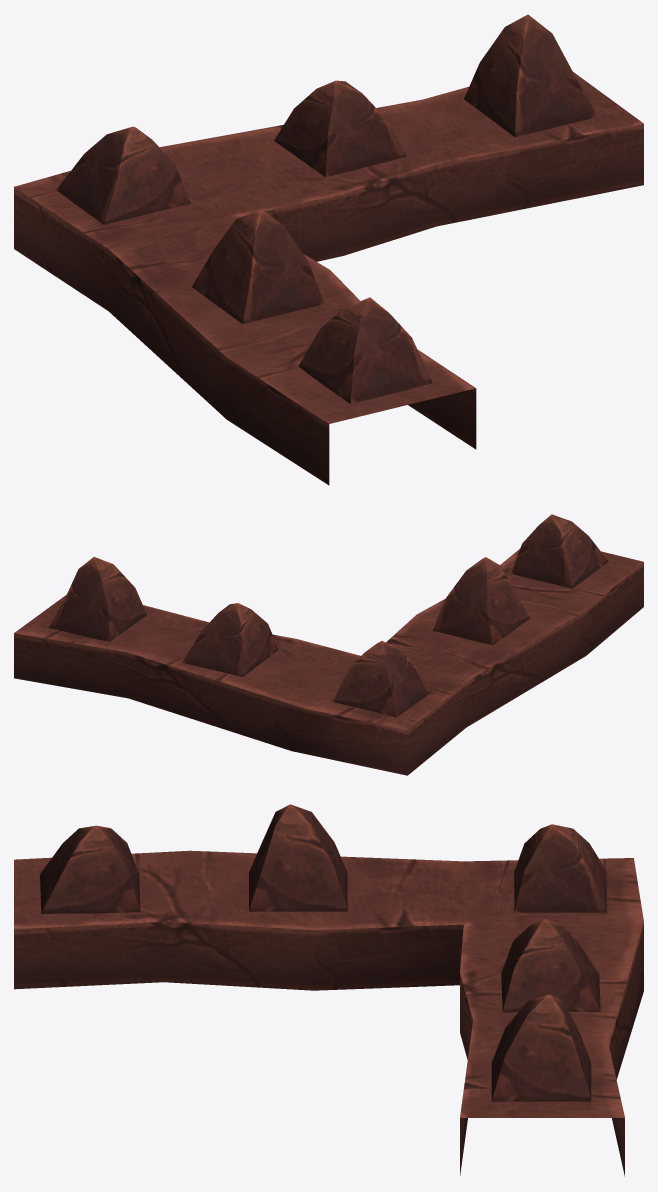
File: lava_cap_concave_01.fbx
3 renders of one model, top to bottom at view 1: azimuth 30°, elevation 25°; view 2: azimuth 150°, elevation 25°; view 3: azimuth 270°, elevation 25°, orthographic. The views are drawn at different scales.
Parts seen in each view (by area): view 1: lava_cap_concave_01-0; view 2: lava_cap_concave_01-0; view 3: lava_cap_concave_01-0.
Boxes of the visible parts, x1,y1,x2,y2 form: lava_cap_concave_01-0: (14, 14, 643, 485); lava_cap_concave_01-0: (14, 514, 643, 775); lava_cap_concave_01-0: (14, 804, 643, 1176).
Bounding box in the file's own units: 4.73 × 1.25 × 4.77.
